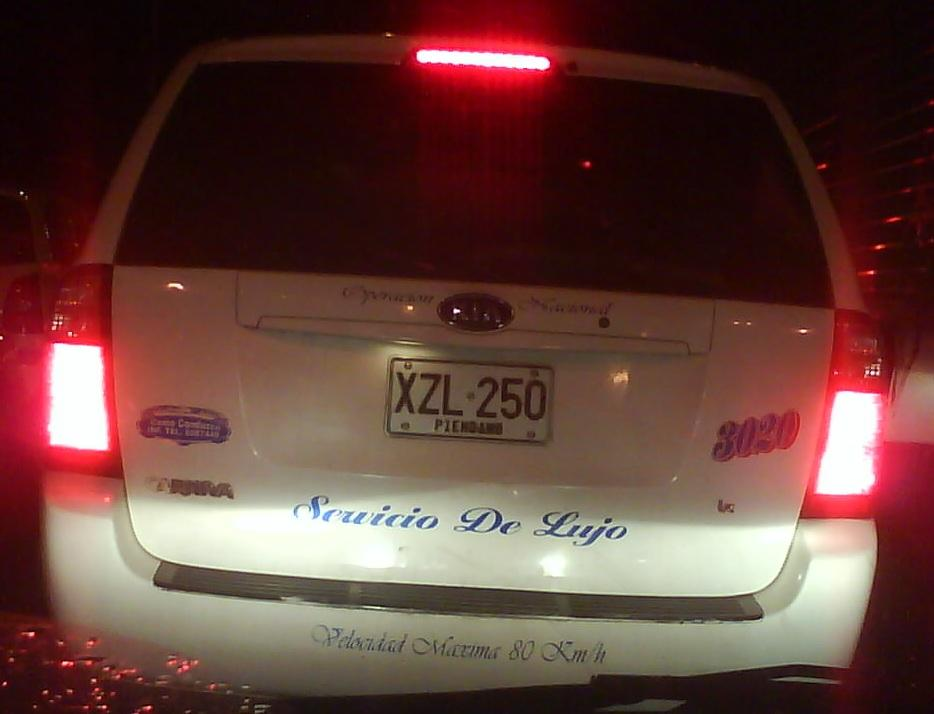placas: (380, 350, 558, 450)
